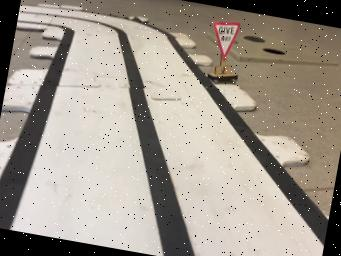give_way: (207, 21, 239, 83), (207, 21, 239, 83), (207, 21, 239, 83)
street: (0, 4, 328, 256), (0, 4, 328, 256), (0, 4, 328, 256)
